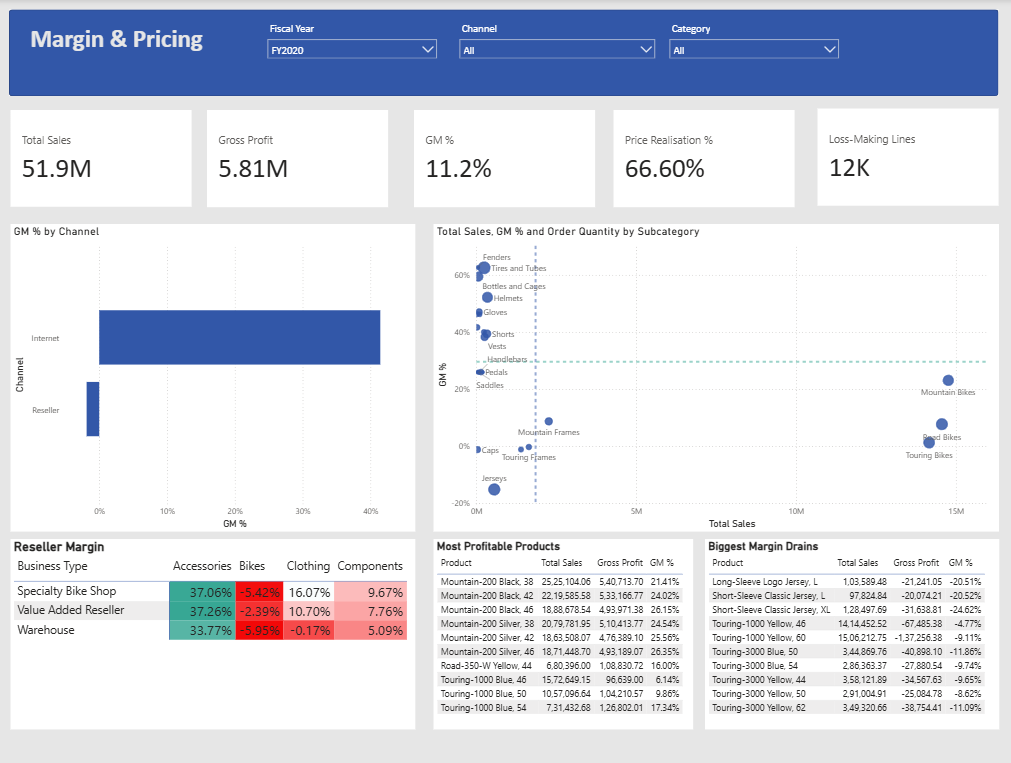

What the dashboard file says about the page in this screenshot:
{"tool":"powerbi","page":{"name":"Margin & Pricing","canvas":[1520,1200],"ordinal":3},"visuals":[{"type":"shape","box":[14,16,1486,130],"z":0},{"type":"slicer","fields":{"Values":["Sales Order.Channel"]},"box":[681.5,28.2,313.5,60.1],"z":1000},{"type":"textbox","box":[39.4,31.9,398,56.3],"z":2000},{"type":"slicer","fields":{"Values":["Category.Category"]},"box":[995,28.2,274.1,60.1],"z":3000},{"type":"cardVisual","fields":{"Data":["_Measures.Total Sales"]},"box":[14.8,166.3,272,145],"z":4000},{"type":"cardVisual","fields":{"Data":["_Measures.Gross Profit"]},"box":[312,166,272,146],"z":5000},{"type":"cardVisual","fields":{"Data":["_Measures.GM %"]},"box":[622,166,272,146],"z":6000},{"type":"cardVisual","fields":{"Data":["_Measures.Price Realisation %"]},"box":[922,166,272,146],"z":7000},{"type":"cardVisual","fields":{"Data":["_Measures.Loss-Making Lines"]},"box":[1228,164,272,146],"z":8000},{"type":"clusteredBarChart","title":"GM % by Channel","fields":{"Category":["Sales Order.Channel"],"Y":["_Measures.GM %"]},"box":[16,380,608,420],"z":9000},{"type":"scatterChart","fields":{"Category":["Product.Subcategory"],"Size":["Sum(Sales.Order Quantity)"],"X":["_Measures.Total Sales"],"Y":["_Measures.GM %"]},"box":[650,380,850,420],"z":10000},{"type":"pivotTable","title":"Reseller Margin","fields":{"Columns":["Category.Category"],"Rows":["Reseller.Business Type"],"Values":["_Measures.GM %"]},"box":[16,810,608,286],"z":11000},{"type":"tableEx","title":"Most Profitable Products","fields":{"Values":["Product.Product","_Measures.Total Sales","_Measures.Gross Profit","_Measures.GM %"]},"box":[652,810,390,286],"z":12000},{"type":"tableEx","title":"Biggest Margin Drains","fields":{"Values":["Product.Product","_Measures.Total Sales","_Measures.Gross Profit","_Measures.GM %"]},"box":[1058,810,442,286],"z":13000},{"type":"slicer","fields":{"Values":["Date.Fiscal Year"]},"box":[391.7,28.3,274.1,60.1],"z":14000}]}

Visuals, with their boxes on the page's 1520x1200 design canvas (x1, y1, x2, y2). These are canvas units, not pixel positions in the 1011x763 screenshot, which may show the page scaled, cropped or inside an application window:
shape: (x1=14, y1=16, x2=1500, y2=146)
slicer - Sales Order.Channel: (x1=682, y1=28, x2=995, y2=88)
textbox: (x1=39, y1=32, x2=437, y2=88)
slicer - Category.Category: (x1=995, y1=28, x2=1269, y2=88)
cardVisual - _Measures.Total Sales: (x1=15, y1=166, x2=287, y2=311)
cardVisual - _Measures.Gross Profit: (x1=312, y1=166, x2=584, y2=312)
cardVisual - _Measures.GM %: (x1=622, y1=166, x2=894, y2=312)
cardVisual - _Measures.Price Realisation %: (x1=922, y1=166, x2=1194, y2=312)
cardVisual - _Measures.Loss-Making Lines: (x1=1228, y1=164, x2=1500, y2=310)
"GM % by Channel" clusteredBarChart: (x1=16, y1=380, x2=624, y2=800)
scatterChart - Product.Subcategory x Sum(Sales.Order Quantity): (x1=650, y1=380, x2=1500, y2=800)
"Reseller Margin" pivotTable: (x1=16, y1=810, x2=624, y2=1096)
"Most Profitable Products" tableEx: (x1=652, y1=810, x2=1042, y2=1096)
"Biggest Margin Drains" tableEx: (x1=1058, y1=810, x2=1500, y2=1096)
slicer - Date.Fiscal Year: (x1=392, y1=28, x2=666, y2=88)
